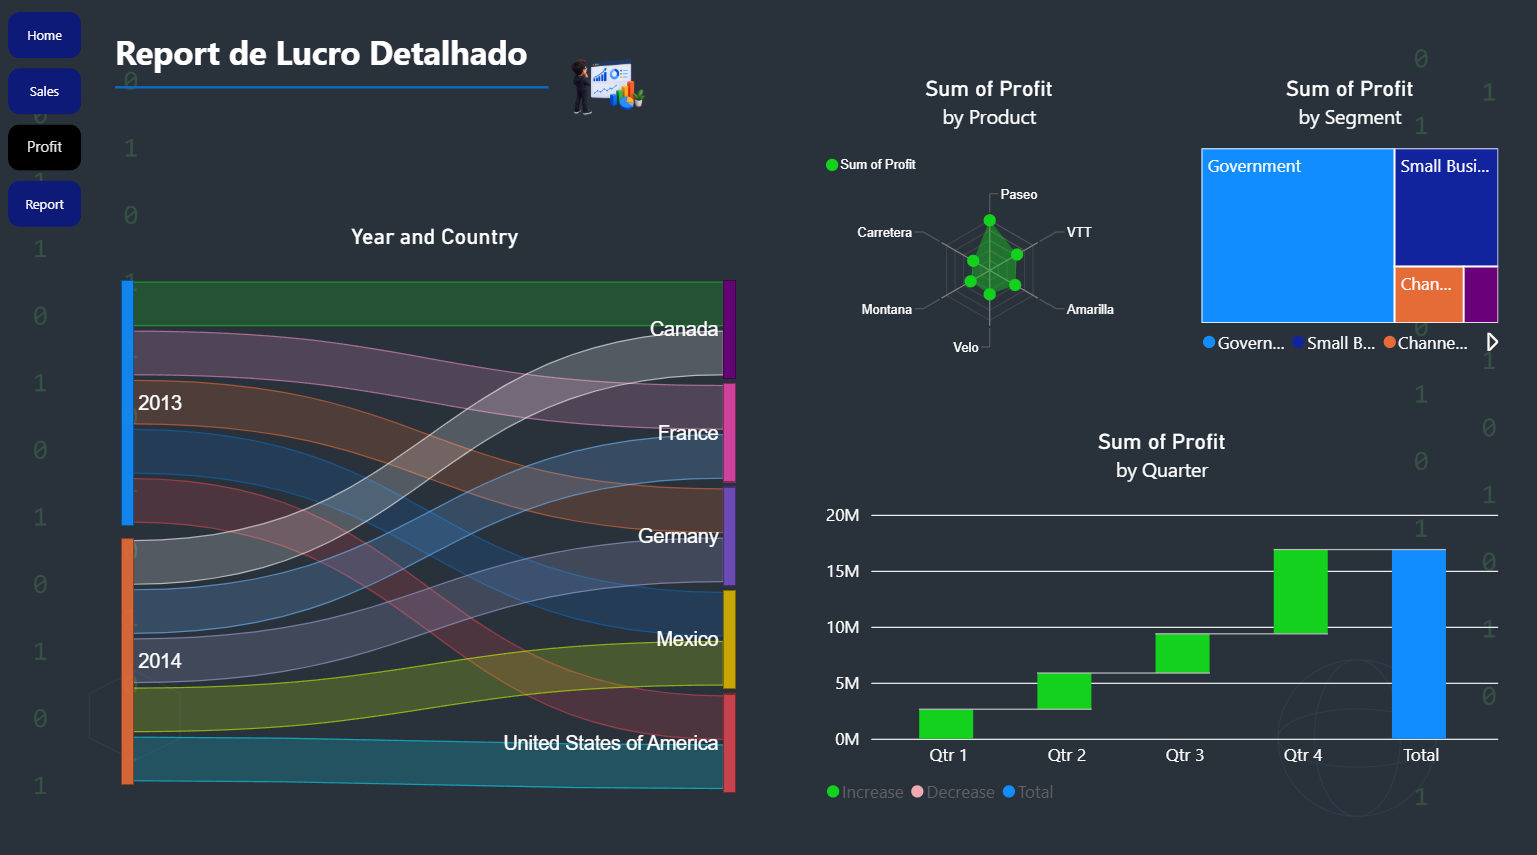

The page's visual inventory and layout, read from the dashboard file:
{"tool":"powerbi","page":{"name":"Profit","canvas":[1280,720],"ordinal":2},"visuals":[{"type":"textbox","box":[95.3,24.5,394.2,45.7],"z":0},{"type":"shape","box":[95.3,63.3,355.2,16.9],"z":1000},{"type":"waterfallChart","fields":{"Category":["financials.Date.Variation.Date Hierarchy.Quarter"],"Y":["Sum(financials.Profit)"]},"box":[660.7,336.7,583.1,342.4],"z":2000},{"type":"treemap","fields":{"Group":["financials.Segment"],"Values":["Sum(financials.Profit)"]},"box":[968.6,47.3,275.1,263.1],"z":3000},{"type":"sankey02300D1BE6F5427989F3DE31CCA9E0F32020","fields":{"Source":["financials.Year"],"Destination":["financials.Country"]},"box":[73.4,168.8,566.7,510.6],"z":4000},{"type":"RadarChart1446119667547","fields":{"Category":["financials.Product"],"Y":["Sum(financials.Profit)"]},"box":[660.7,47.3,300.2,263.1],"z":5000},{"type":"pageNavigator","box":[7.6,10.1,60.8,178],"z":6000},{"type":"image","box":[431.2,11.8,131.6,119],"z":7000}]}

Visuals, with their boxes on the page's 1280x720 design canvas (x1, y1, x2, y2). These are canvas units, not pixel positions in the 1537x855 screenshot, which may show the page scaled, cropped or inside an application window:
textbox: <box>95,24,490,70</box>
shape: <box>95,63,450,80</box>
waterfallChart - financials.Date.Variation.Date Hierarchy.Quarter x Sum(financials.Profit): <box>661,337,1244,679</box>
treemap - financials.Segment x Sum(financials.Profit): <box>969,47,1244,310</box>
sankey02300D1BE6F5427989F3DE31CCA9E0F32020 - financials.Year x financials.Country: <box>73,169,640,679</box>
RadarChart1446119667547 - financials.Product x Sum(financials.Profit): <box>661,47,961,310</box>
pageNavigator: <box>8,10,68,188</box>
image: <box>431,12,563,131</box>
